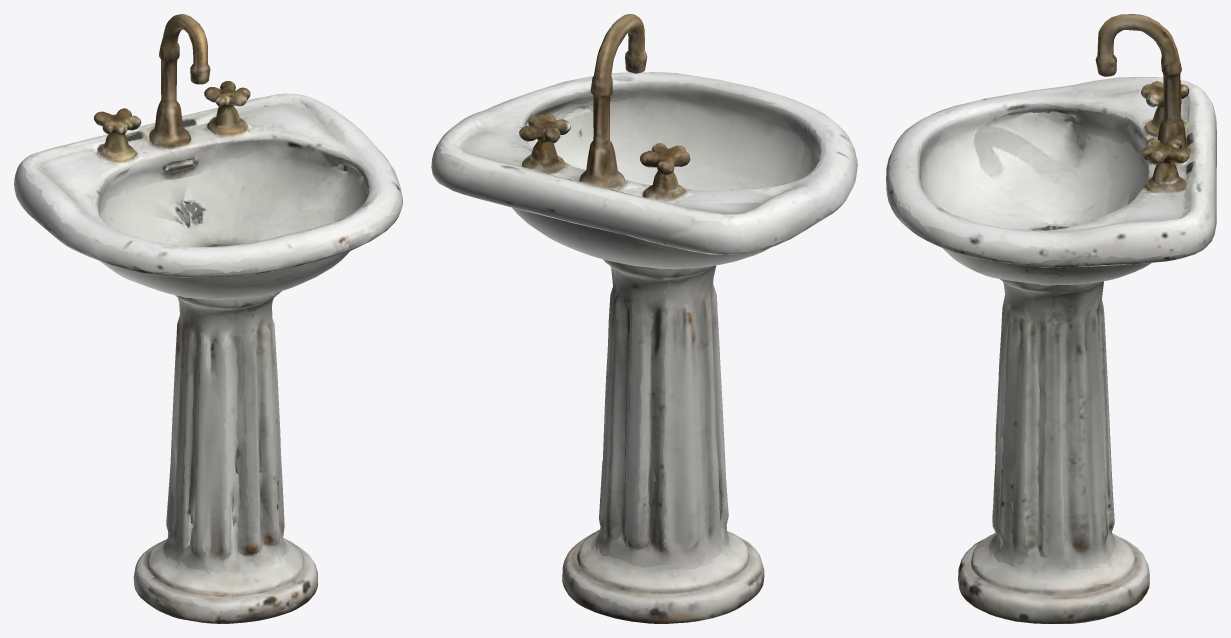
The model's file is obj_basement_basin.glb.
3 views of the same model, side by side, from view 1: azimuth 30°, elevation 25°; view 2: azimuth 150°, elevation 25°; view 3: azimuth 270°, elevation 25° (orthographic). The views are drawn at different scales.
Visible parts, largest first — view 1: geometry_0; view 2: geometry_0; view 3: geometry_0.
Part boxes in pixels (x1,y1,x2,y2): geometry_0: (14,14,402,623); geometry_0: (431,14,857,623); geometry_0: (886,14,1216,623).
Bounding box in the file's own units: 0.5937 × 0.9495 × 0.4998.
1 material, 1 textured.
